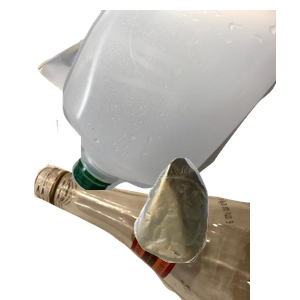glass: (31, 120, 271, 300)
paper: (35, 10, 237, 178)
plastic: (60, 10, 300, 190)
trash: (131, 155, 300, 300)
